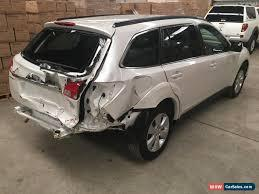boot-dent: (13, 64, 87, 119)
quaterpanel-dent: (97, 73, 158, 114)
rear-bumper-dent: (7, 121, 109, 144)
